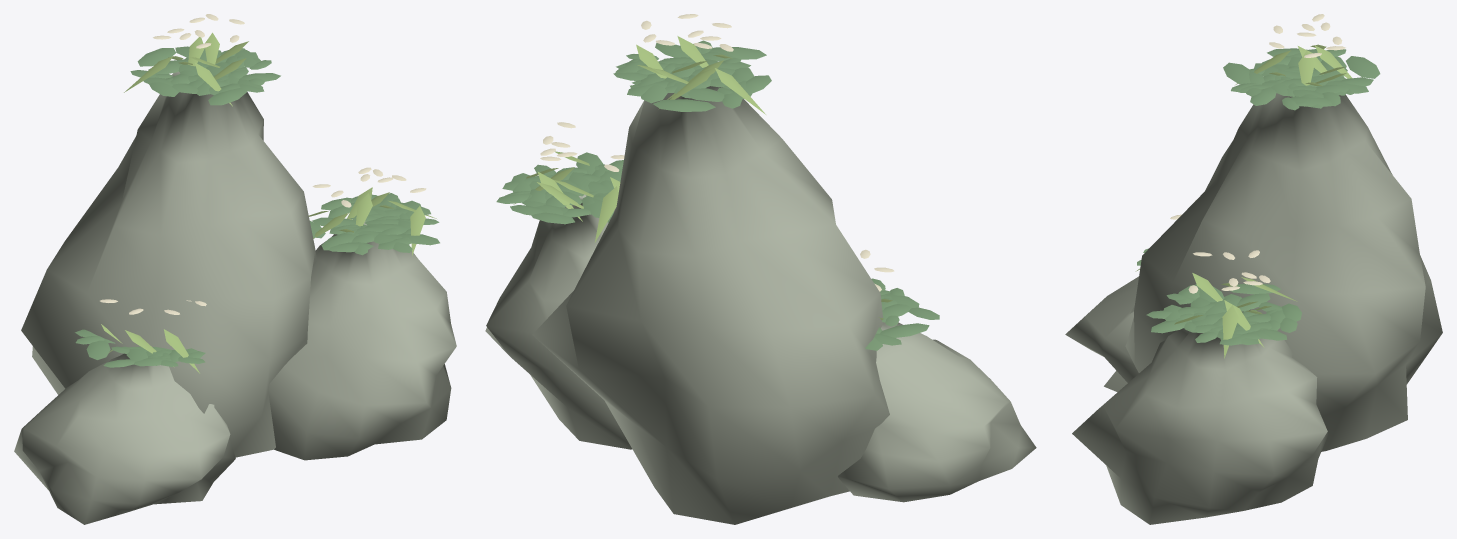
The model's file is study_rock_garden_0.glb.
3 views of the same model, side by side, from view 1: azimuth 30°, elevation 25°; view 2: azimuth 150°, elevation 25°; view 3: azimuth 270°, elevation 25° (orthographic). The views are drawn at different scales.
Visible parts, largest first — view 1: study_rock_garden_0_LakeStone, study_rock_garden_0_StudyLeafJade, study_rock_garden_0_LakeWillow, study_rock_garden_0_StudyCream; view 2: study_rock_garden_0_LakeStone, study_rock_garden_0_StudyLeafJade, study_rock_garden_0_LakeWillow, study_rock_garden_0_StudyCream; view 3: study_rock_garden_0_LakeStone, study_rock_garden_0_StudyLeafJade, study_rock_garden_0_LakeWillow, study_rock_garden_0_StudyCream.
Part boxes in pixels (left/top/right/bottom): study_rock_garden_0_LakeStone: left=14, top=71, right=456, bottom=524; study_rock_garden_0_StudyLeafJade: left=75, top=46, right=439, bottom=367; study_rock_garden_0_LakeWillow: left=101, top=32, right=436, bottom=373; study_rock_garden_0_StudyCream: left=100, top=14, right=426, bottom=314; study_rock_garden_0_LakeStone: left=485, top=86, right=1036, bottom=524; study_rock_garden_0_StudyLeafJade: left=496, top=40, right=939, bottom=350; study_rock_garden_0_LakeWillow: left=513, top=36, right=892, bottom=319; study_rock_garden_0_StudyCream: left=540, top=14, right=894, bottom=291; study_rock_garden_0_LakeStone: left=1065, top=93, right=1442, bottom=524; study_rock_garden_0_StudyLeafJade: left=1137, top=48, right=1380, bottom=345; study_rock_garden_0_LakeWillow: left=1135, top=44, right=1352, bottom=358; study_rock_garden_0_StudyCream: left=1170, top=14, right=1345, bottom=293.
Size of the model in its own units: 2.76 by 2.38 by 2.03.
